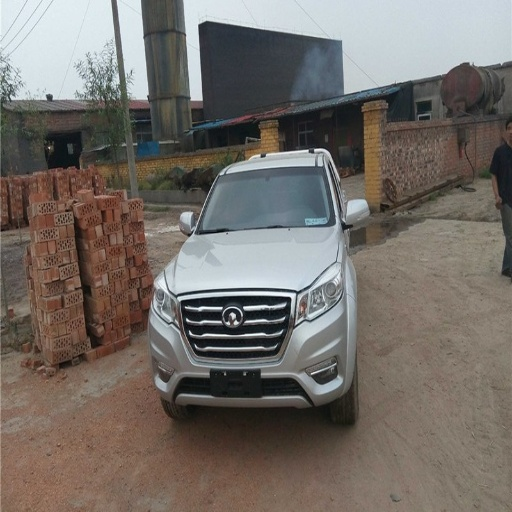front_bumper: (151, 287, 352, 406)
hood: (173, 228, 338, 290)
